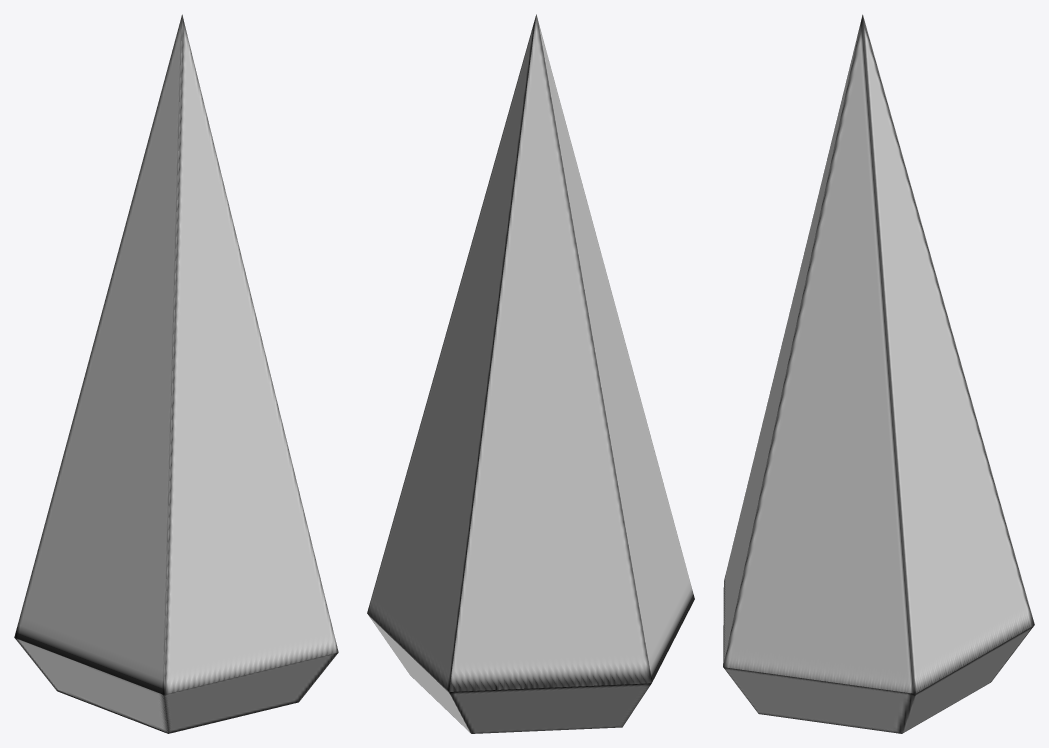
Rendered from Pico.fbx.
The picture shows the model from 3 angles, left to right: view 1: azimuth 30°, elevation 25°; view 2: azimuth 150°, elevation 25°; view 3: azimuth 270°, elevation 25°; orthographic projection.
Visible parts, largest first — view 1: Icosphere; view 2: Icosphere; view 3: Icosphere.
Boxes of the visible parts, x1,y1,x2,y2 form: Icosphere: (14,14,338,733); Icosphere: (367,14,694,733); Icosphere: (723,14,1034,733).
Size of the model in its own units: 100 by 225 by 95.22.
1 material, 1 textured.
